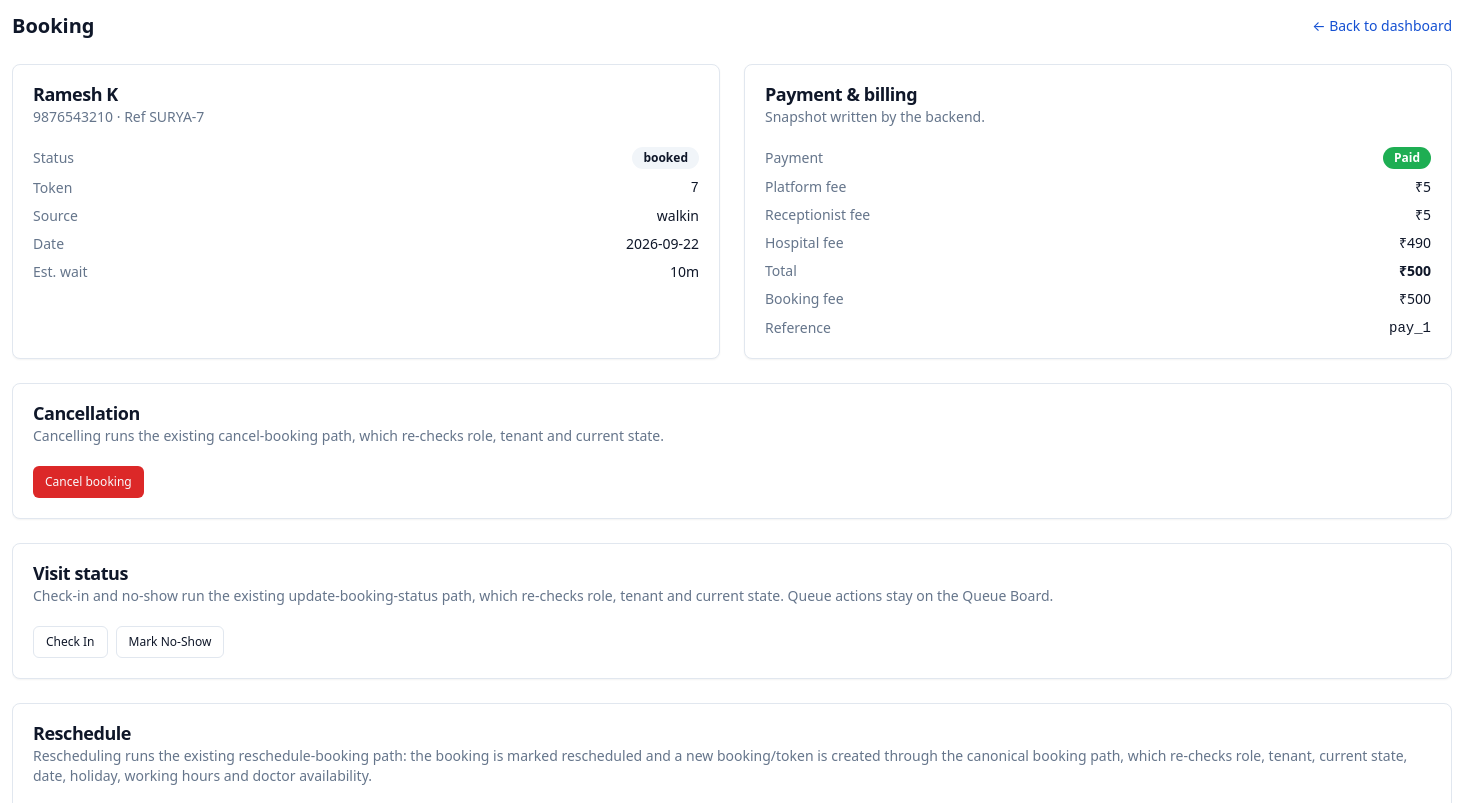
BookingDetail status-closure control › sends the exact two-field body for check-in and reloads
Check: the heading "Ramesh K" is shown, box [33,82,118,106]
Click the button "Check In" at (70, 642), box [33,626,108,658]
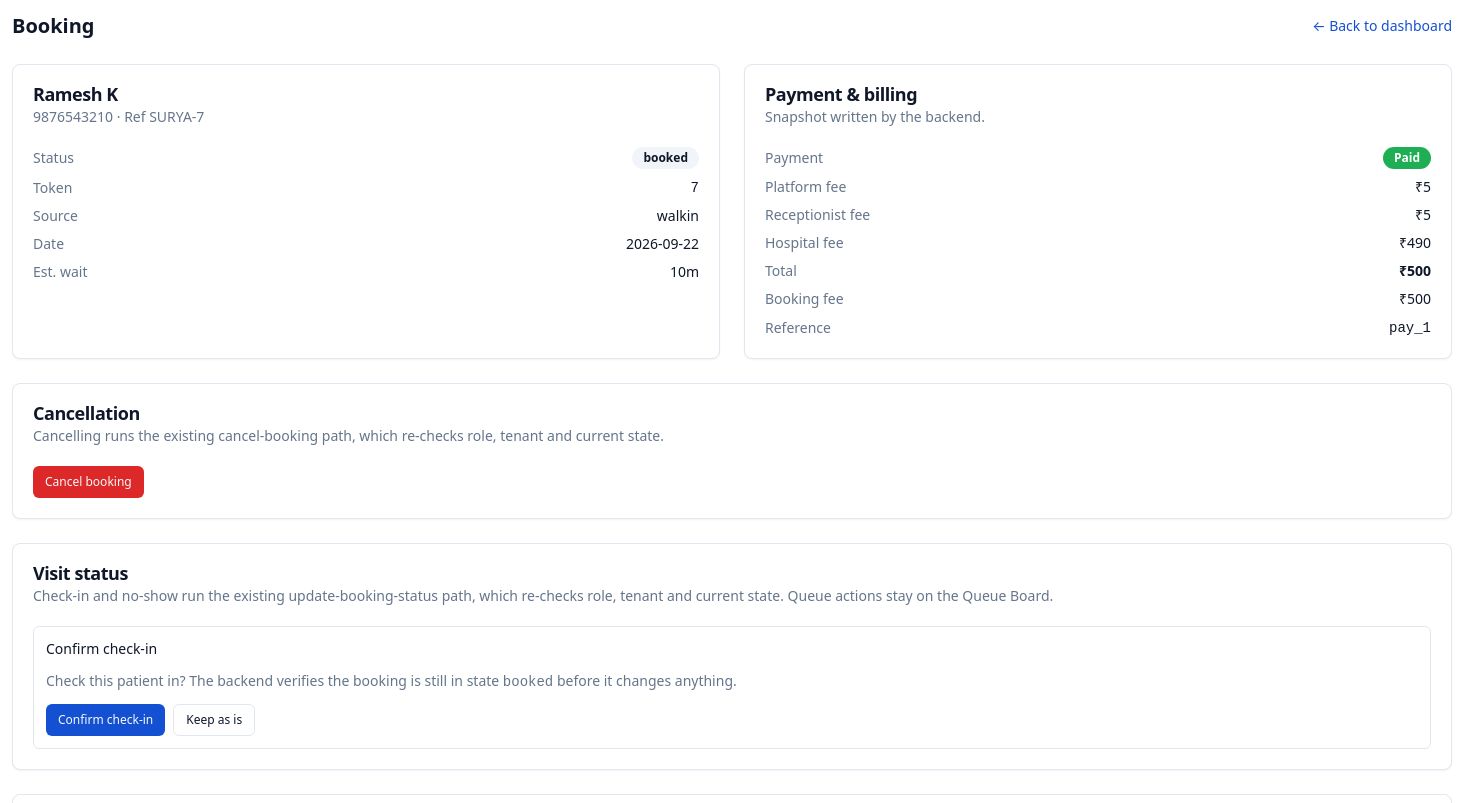
Click the button "Confirm check-in" at (106, 720), box [46,704,165,736]
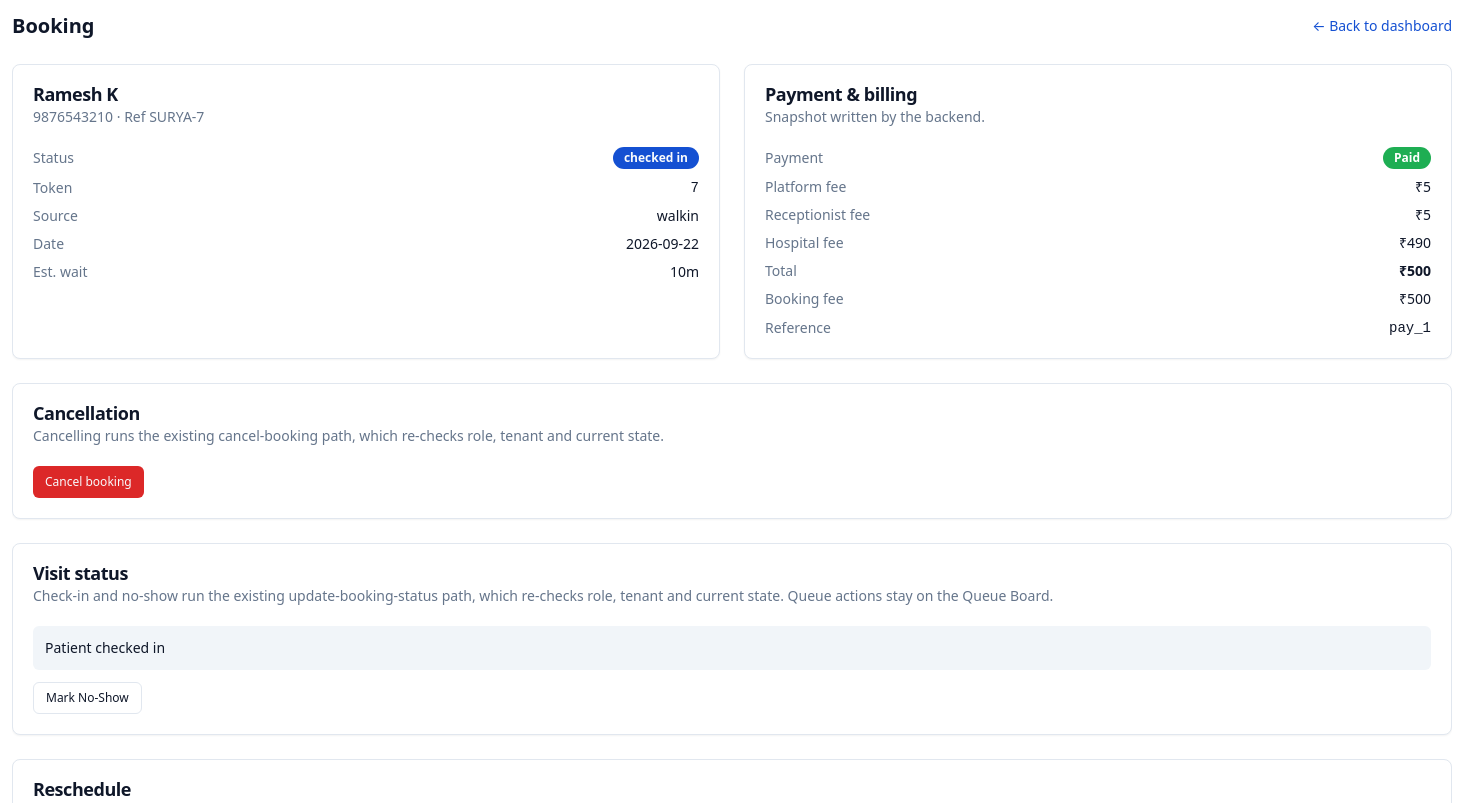
Check: the text "Patient checked in" is shown, box [33,626,1431,670]
Check: the text "checked in" is shown, box [613,147,699,169]
